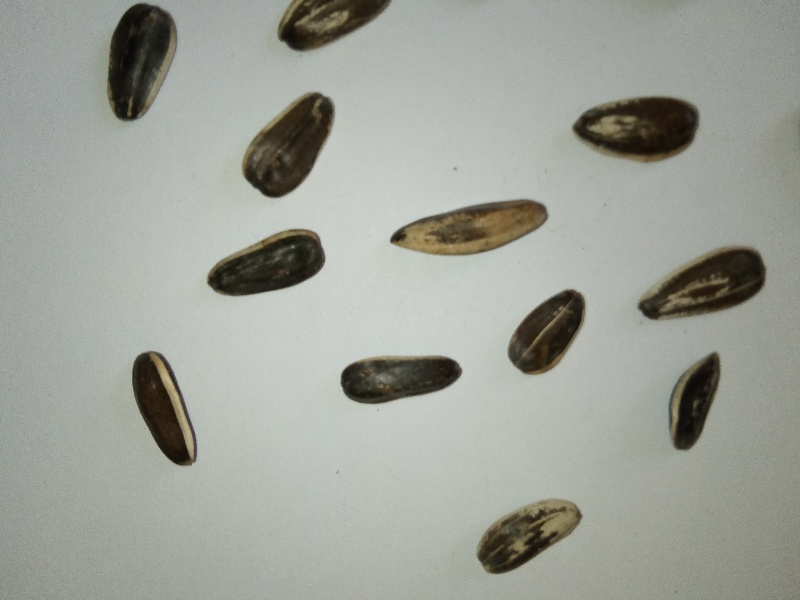girasol: (632, 234, 775, 334), (384, 190, 557, 264), (565, 84, 706, 174), (237, 91, 346, 206), (98, 2, 188, 126), (207, 220, 329, 306), (471, 493, 590, 580), (128, 344, 208, 473), (341, 344, 466, 417), (497, 285, 593, 379), (664, 346, 729, 459)
